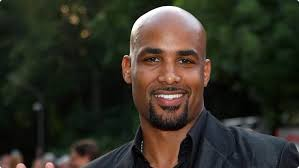person: (119, 4, 211, 132)
